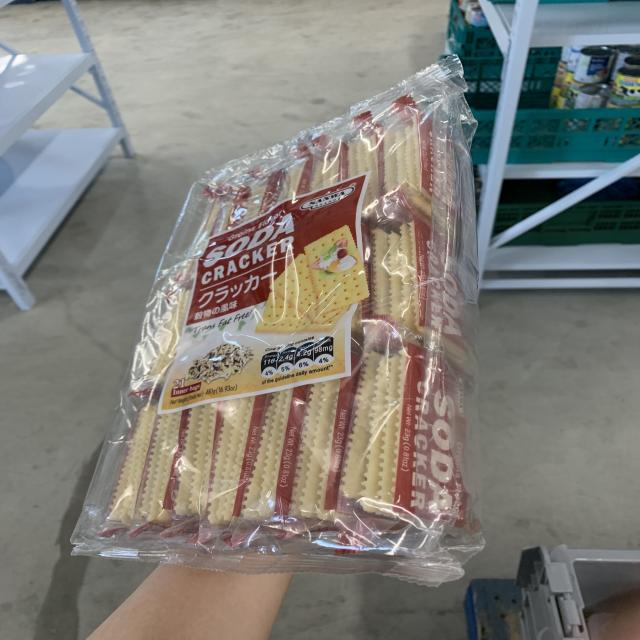object_name: (144, 114, 468, 552)
